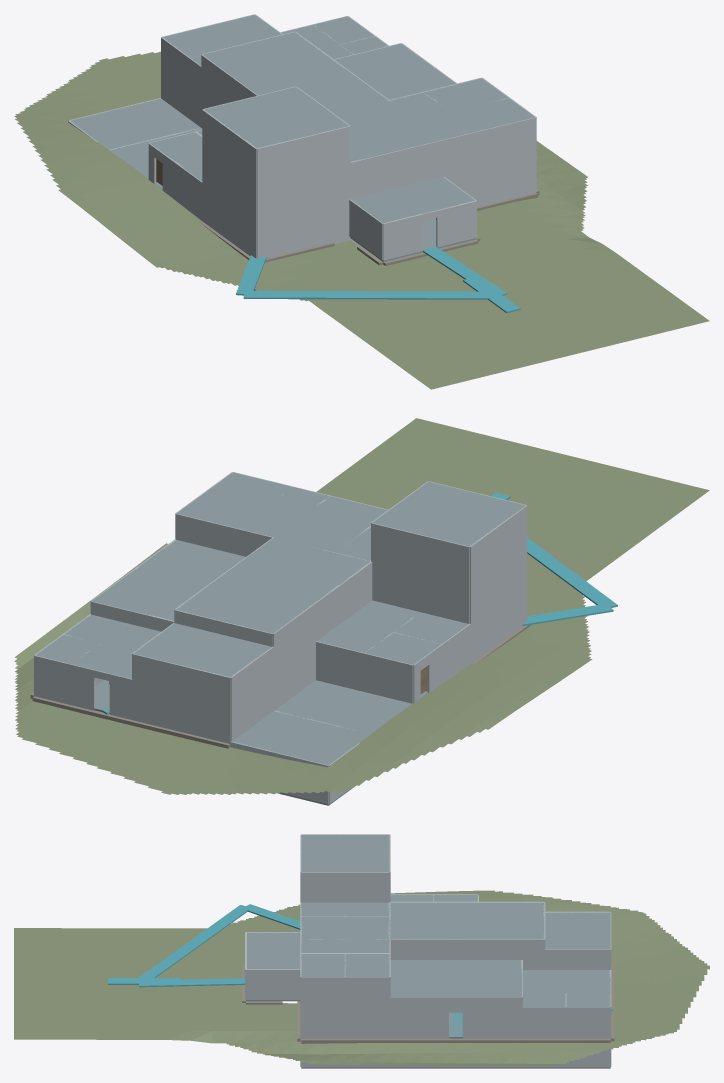
The model's file is open-circulation.glb.
The picture shows the model from 3 angles, top to bottom: view 1: azimuth 30°, elevation 25°; view 2: azimuth 150°, elevation 25°; view 3: azimuth 270°, elevation 25°; orthographic projection. The views are drawn at different scales.
Visible parts, largest first — view 1: Saved editor macroterrain CHURCH, Ceiling cap nave, Ceiling cap belfry, Ceiling cap chapel, Wall belfry S, Wall tower-stair S, Ceiling cap choir, Ceiling cap vestibule, Wall crypt-entry S, Ceiling cap chancel, Wall chancel W, Ceiling cap vault-north (+30 smaller); view 2: Saved editor macroterrain CHURCH, Ceiling cap nave, Wall chancel N, Ceiling cap chapel, Ceiling cap belfry, Flat route shell Wall nave W, Ceiling cap chancel, Wall belfry N, Wall tower-stair N, Ceiling cap choir, Wall chancel W, Ceiling cap vault-north (+32 smaller); view 3: Saved editor macroterrain CHURCH, Ceiling cap nave, Ceiling cap chapel, Ceiling cap belfry, Wall crypt-entry E, Wall belfry E, Ceiling cap chancel, Flat route shell Wall chapel E, Flat route shell Wall chapel E.001, Ceiling cap choir, Ceiling cap vestibule, Ceiling cap vestry (+21 smaller).
Boxes of the visible parts, x1,y1,x2,y2 form: Saved editor macroterrain CHURCH: (14, 51, 709, 389); Ceiling cap nave: (202, 32, 388, 113); Ceiling cap belfry: (203, 87, 348, 148); Ceiling cap chapel: (334, 43, 455, 99); Wall belfry S: (256, 126, 350, 185); Wall tower-stair S: (256, 163, 350, 221); Ceiling cap choir: (335, 101, 441, 153); Ceiling cap vestibule: (350, 177, 475, 223); Wall crypt-entry S: (444, 154, 535, 204); Ceiling cap chancel: (162, 14, 281, 65); Wall chancel W: (161, 37, 201, 127); Ceiling cap vault-north: (69, 98, 187, 140); Saved editor macroterrain CHURCH: (14, 418, 709, 794); Ceiling cap nave: (175, 537, 370, 633); Wall chancel N: (132, 654, 230, 741); Ceiling cap chapel: (92, 540, 245, 620); Ceiling cap belfry: (372, 481, 525, 546); Flat route shell Wall nave W: (273, 585, 340, 710); Ceiling cap chancel: (133, 623, 271, 676); Wall belfry N: (371, 523, 469, 585); Wall tower-stair N: (372, 562, 469, 623); Ceiling cap choir: (274, 496, 387, 552); Wall chancel W: (230, 646, 273, 741); Ceiling cap vault-north: (232, 721, 356, 765); Saved editor macroterrain CHURCH: (14, 890, 709, 1066); Ceiling cap nave: (389, 902, 544, 939); Ceiling cap chapel: (390, 960, 522, 996); Ceiling cap belfry: (301, 834, 389, 871); Wall crypt-entry E: (301, 1007, 389, 1037); Wall belfry E: (301, 872, 389, 902); Ceiling cap chancel: (545, 912, 610, 949); Flat route shell Wall chapel E: (462, 997, 522, 1037); Flat route shell Wall chapel E.001: (389, 997, 449, 1037); Ceiling cap choir: (301, 916, 389, 939); Ceiling cap vestibule: (247, 932, 300, 969); Ceiling cap vestry: (523, 970, 610, 992).
Bounding box in the file's own units: 36 × 12.16 × 63.
Materials: 18 (11 with a texture image).
